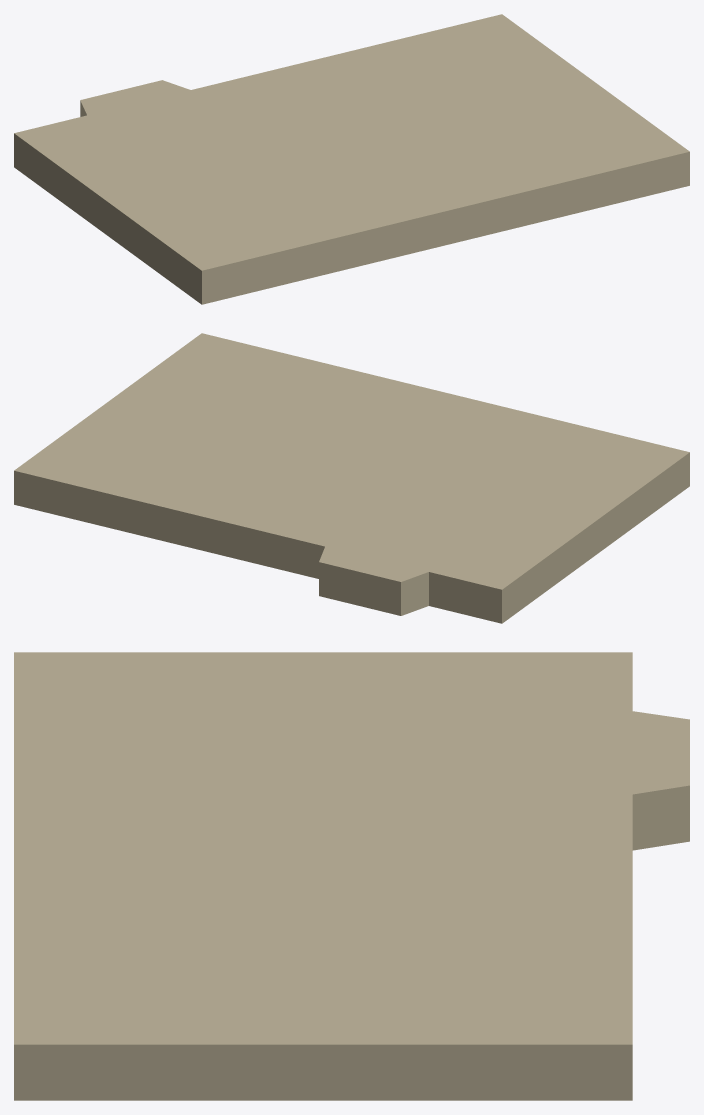
The model's file is Security-folder.glb.
3 renders of one model, top to bottom at view 1: azimuth 30°, elevation 25°; view 2: azimuth 150°, elevation 25°; view 3: azimuth 270°, elevation 25°, orthographic. The views are drawn at different scales.
Visible parts, largest first — view 1: Cube; view 2: Cube; view 3: Cube.
Part boxes in pixels (left/top/right/bottom): Cube: left=14, top=14, right=689, bottom=304; Cube: left=14, top=333, right=689, bottom=623; Cube: left=14, top=652, right=689, bottom=1100.
Size of the model in its own units: 3 by 0.2 by 2.18.
